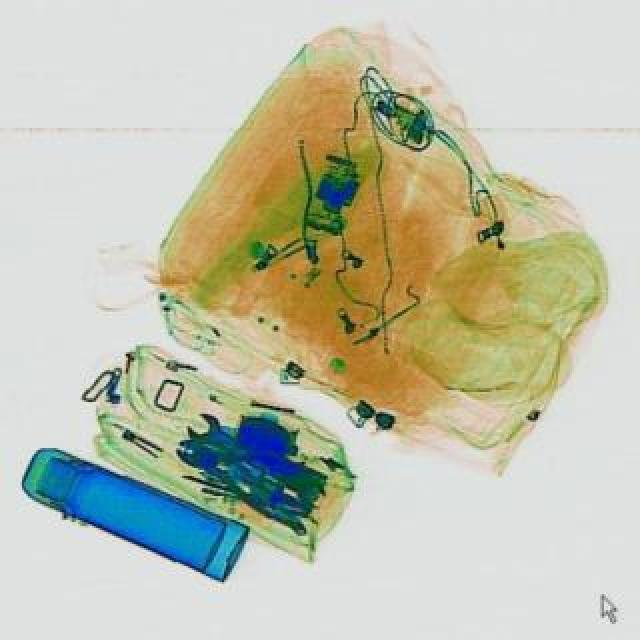scissors: (180, 406, 296, 482)
wrench: (164, 420, 304, 520)
